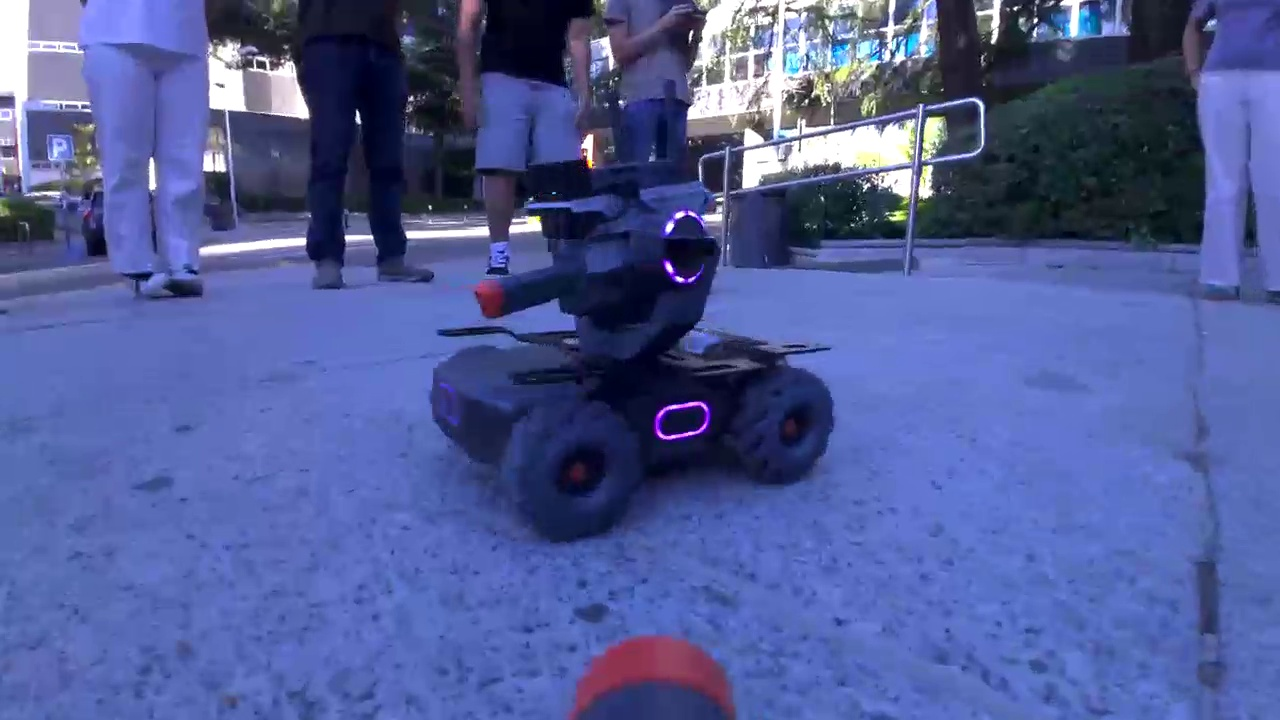robot: (428, 155, 839, 546)
